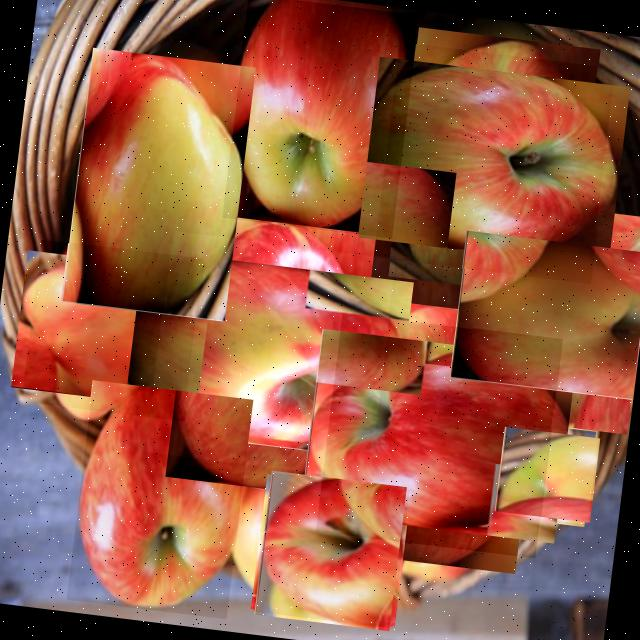Fresh Apple: (146, 230, 396, 480), (316, 312, 562, 558), (374, 40, 616, 284), (62, 46, 256, 322), (221, 0, 420, 239), (66, 378, 254, 618), (464, 213, 639, 418), (22, 238, 205, 422), (252, 471, 410, 628), (497, 422, 599, 524)
